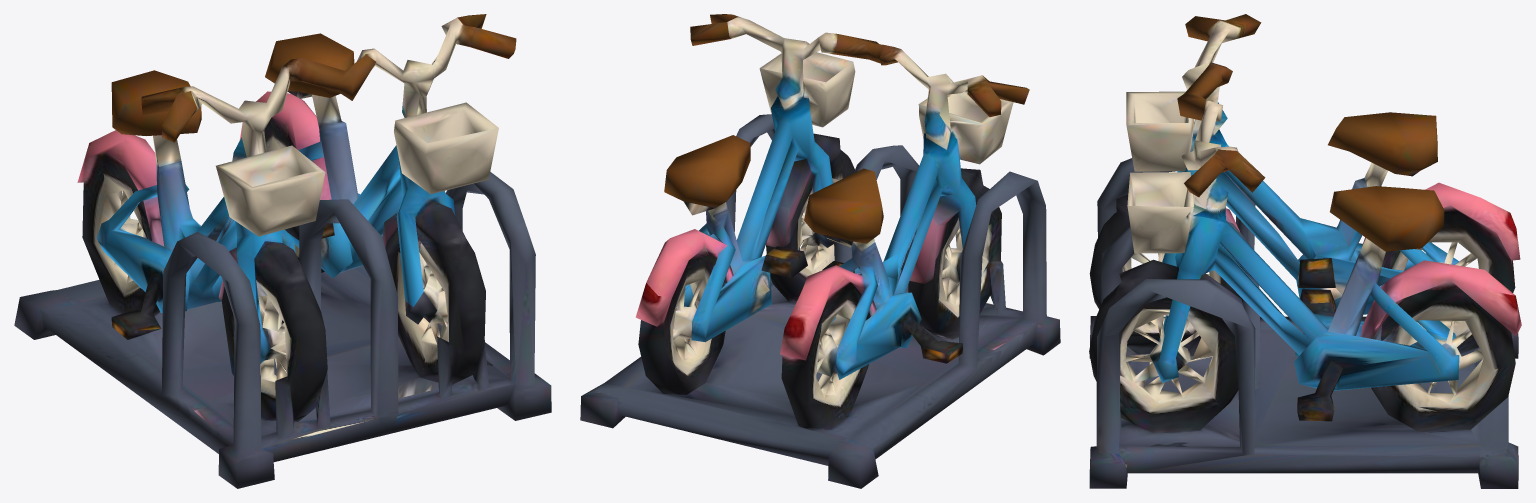
Rendered from bikerack.glb.
3 views of the same model, side by side, from view 1: azimuth 30°, elevation 25°; view 2: azimuth 150°, elevation 25°; view 3: azimuth 270°, elevation 25° (orthographic). The views are drawn at different scales.
Visible parts, largest first — view 1: model; view 2: model; view 3: model.
Boxes of the visible parts, box(x1,y1,x2,y2) form: model: box(14, 14, 551, 488); model: box(580, 14, 1060, 488); model: box(1089, 14, 1521, 488).
Bounding box in the file's own units: 1.73 × 1.62 × 1.89.
Materials: 1 (1 with a texture image).
